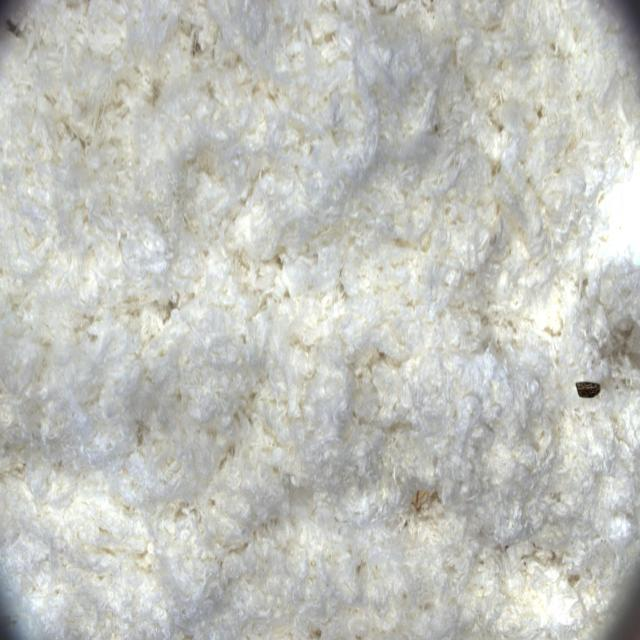dust: (557, 340, 623, 430)
